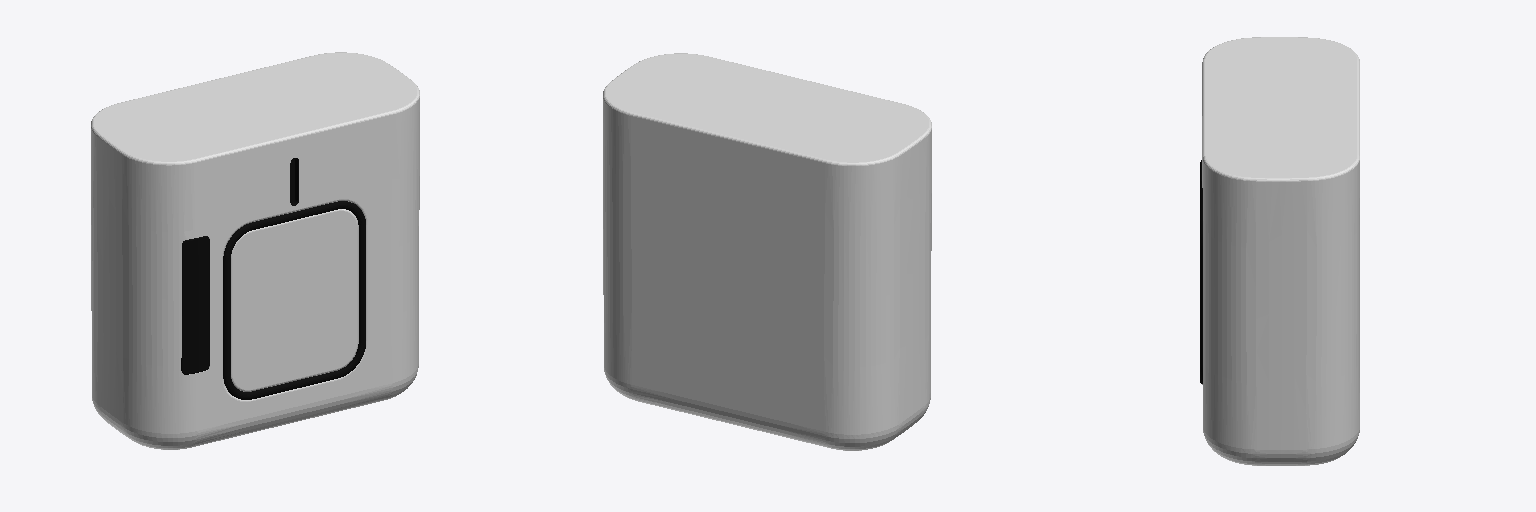
The model's file is XrayModule.obj.
3 views of the same model, side by side, from view 1: azimuth 30°, elevation 25°; view 2: azimuth 150°, elevation 25°; view 3: azimuth 270°, elevation 25° (orthographic).
Parts seen in each view (by area): view 1: ___; view 2: ___; view 3: ___.
Part boxes in pixels (x1,y1,x2,y2): ___: (91,52,419,449); ___: (603,53,931,450); ___: (1200,37,1359,465).
Bounding box in the file's own units: 312 × 302 × 148.